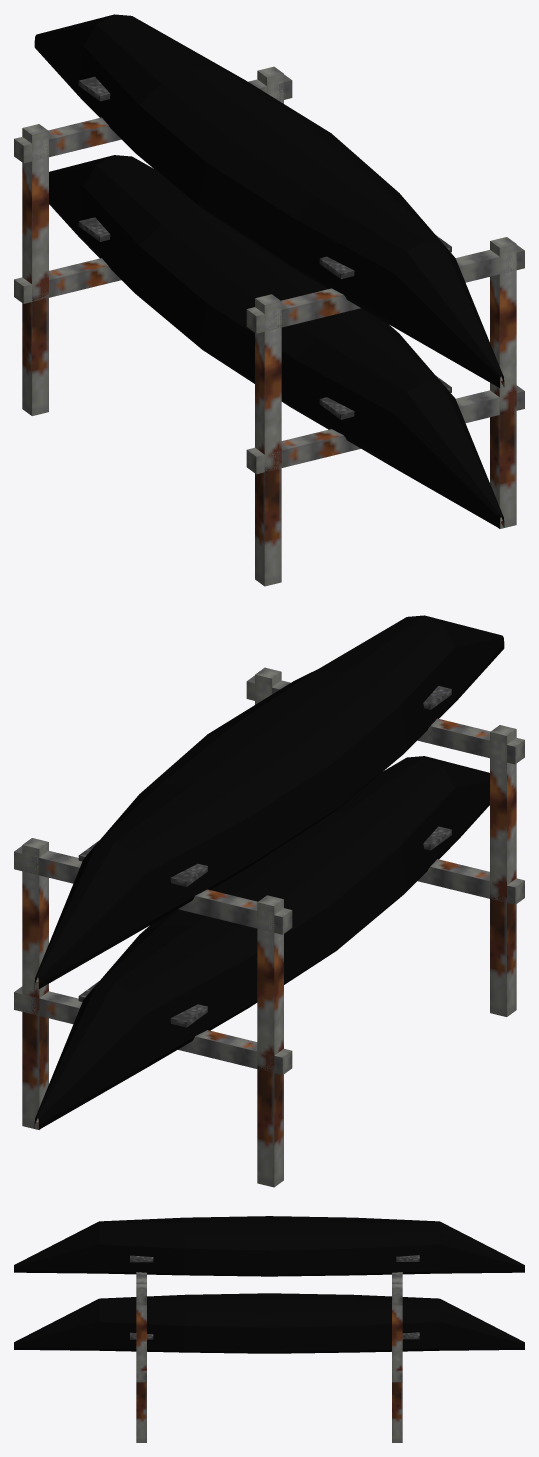
Rendered from SM_canoe_rack.fbx.
3 renders of one model, top to bottom at view 1: azimuth 30°, elevation 25°; view 2: azimuth 150°, elevation 25°; view 3: azimuth 270°, elevation 25°, orthographic. The views are drawn at different scales.
Visible parts, largest first — view 1: canoe_rack; view 2: canoe_rack; view 3: canoe_rack.
Boxes of the visible parts, box(x1,y1,x2,y2) form: canoe_rack: box(14, 14, 524, 586); canoe_rack: box(14, 615, 524, 1187); canoe_rack: box(14, 1216, 524, 1442).
Size of the model in its own units: 1.6 by 1.93 by 4.8.
